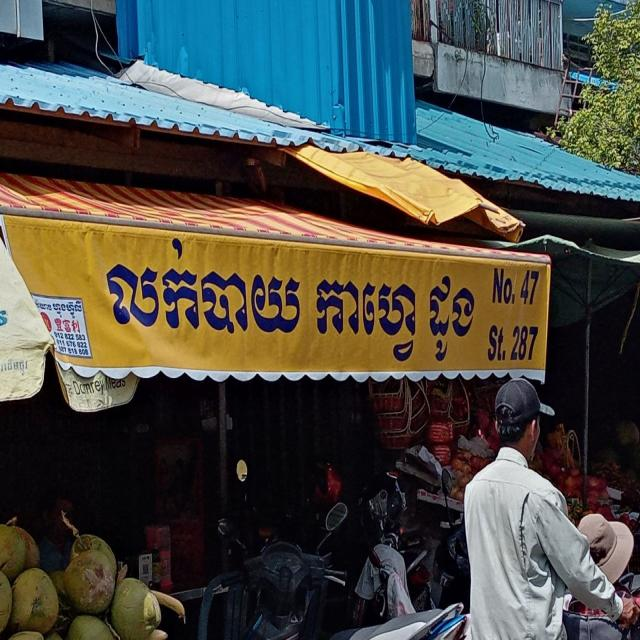2: (96, 224, 488, 369)
Yolov11_80vkh: (50, 297, 86, 320)
